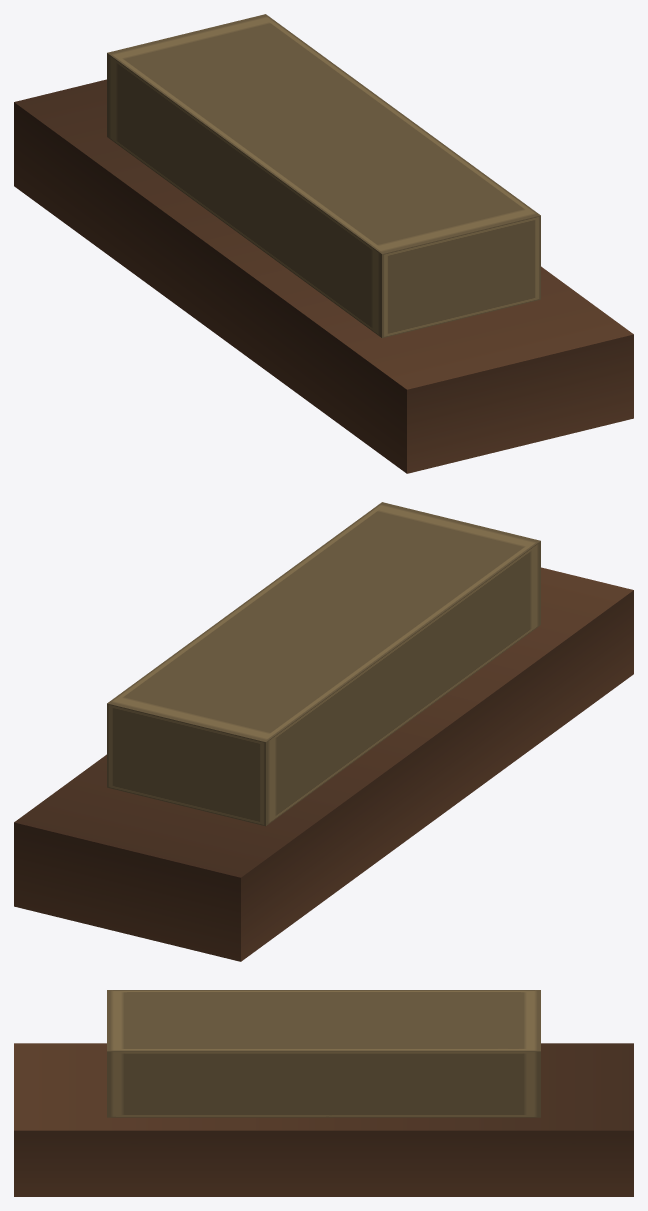
The model's file is PRP_Table_Long.glb.
3 renders of one model, top to bottom at view 1: azimuth 30°, elevation 25°; view 2: azimuth 150°, elevation 25°; view 3: azimuth 270°, elevation 25°, orthographic. The views are drawn at different scales.
Visible parts, largest first — view 1: PRP_Table_Long; view 2: PRP_Table_Long; view 3: PRP_Table_Long.
Boxes of the visible parts, x1,y1,x2,y2 form: PRP_Table_Long: (14,14,633,473); PRP_Table_Long: (14,502,633,961); PRP_Table_Long: (14,990,633,1196).
Bounding box in the file's own units: 1.2 × 0.85 × 3.6.
1 material, 1 textured.
